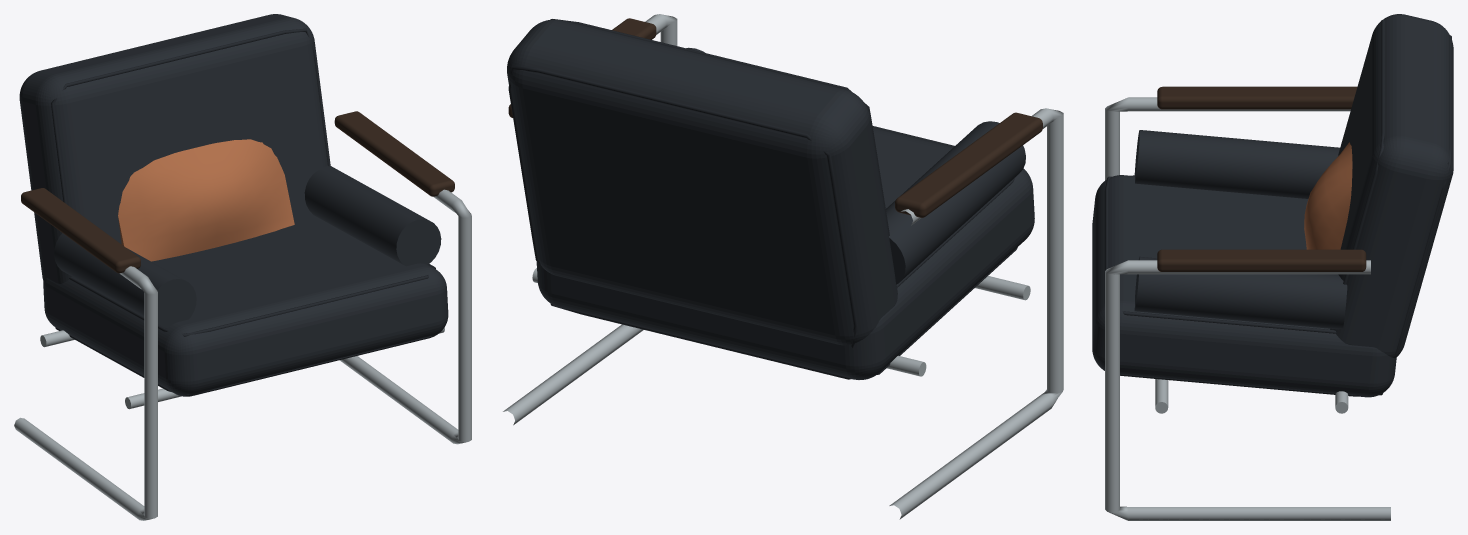
File: atelier-cantilever-obsidian.glb
The picture shows the model from 3 angles, left to right: view 1: azimuth 30°, elevation 25°; view 2: azimuth 150°, elevation 25°; view 3: azimuth 270°, elevation 25°; orthographic projection. The views are drawn at different scales.
Size of the model in its own units: 0.832 by 0.801 by 0.7221.
